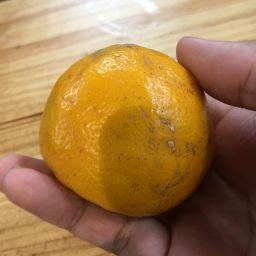Ripe: (41, 45, 210, 214)
